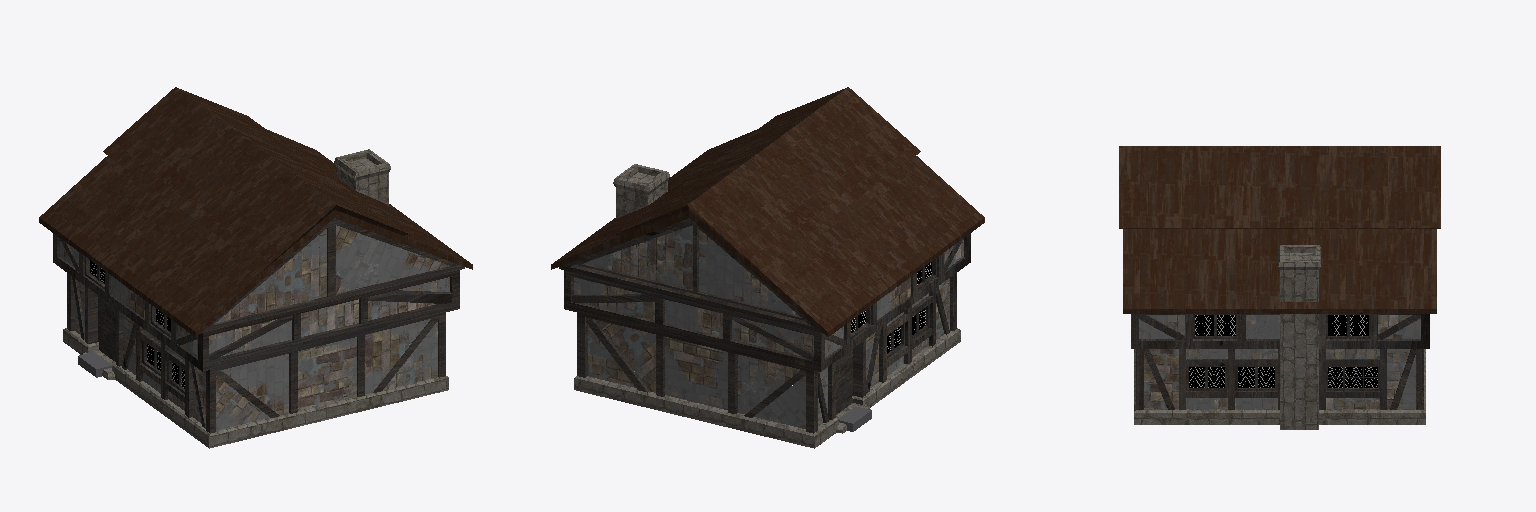
The picture shows the model from 3 angles: view 1: azimuth 30°, elevation 25°; view 2: azimuth 150°, elevation 25°; view 3: azimuth 270°, elevation 25°; orthographic projection.
Visible parts, largest first — view 1: Meshesnewaotshousefourrobloxcube00111, Meshesnewaotshousefourrobloxcube01111, Meshesnewaotshousefourrobloxcube00411, Meshesnewaotshousefourrobloxcube00211; view 2: Meshesnewaotshousefourrobloxcube00111, Meshesnewaotshousefourrobloxcube01111, Meshesnewaotshousefourrobloxcube00411, Meshesnewaotshousefourrobloxcube00211; view 3: Meshesnewaotshousefourrobloxcube00111, Meshesnewaotshousefourrobloxcube00411, Meshesnewaotshousefourrobloxcube00211, Meshesnewaotshousefourrobloxcube01111, Window1, Window4, Window7.
Part boxes in pixels (x1,y1,x2,y2): Meshesnewaotshousefourrobloxcube00111: (39,87,472,336); Meshesnewaotshousefourrobloxcube01111: (60,225,449,430); Meshesnewaotshousefourrobloxcube00411: (53,218,464,433); Meshesnewaotshousefourrobloxcube00211: (63,149,448,448); Meshesnewaotshousefourrobloxcube00111: (551,87,984,336); Meshesnewaotshousefourrobloxcube01111: (574,225,963,428); Meshesnewaotshousefourrobloxcube00411: (559,218,970,433); Meshesnewaotshousefourrobloxcube00211: (574,164,960,448); Meshesnewaotshousefourrobloxcube00111: (1119,146,1440,313); Meshesnewaotshousefourrobloxcube00411: (1131,314,1429,409); Meshesnewaotshousefourrobloxcube00211: (1134,245,1425,429); Meshesnewaotshousefourrobloxcube01111: (1139,315,1420,408); Window1: (1195,315,1368,335); Window4: (1189,367,1274,387); Window7: (1328,367,1377,387).
Size of the model in its own units: 34.46 by 26.17 by 34.75.
7 materials, 5 textured.